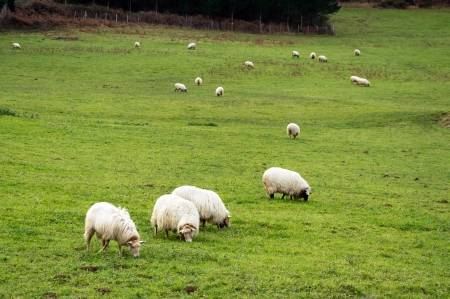sheep: (82, 199, 143, 259), (186, 177, 236, 230), (149, 193, 200, 242), (260, 162, 313, 206), (348, 73, 373, 90), (283, 120, 302, 140), (174, 81, 188, 94), (243, 59, 255, 71), (214, 85, 225, 97), (317, 52, 329, 63), (187, 41, 198, 51), (290, 48, 301, 58), (352, 47, 363, 57), (11, 41, 22, 50), (192, 76, 203, 84), (308, 51, 317, 60), (132, 40, 142, 48)
